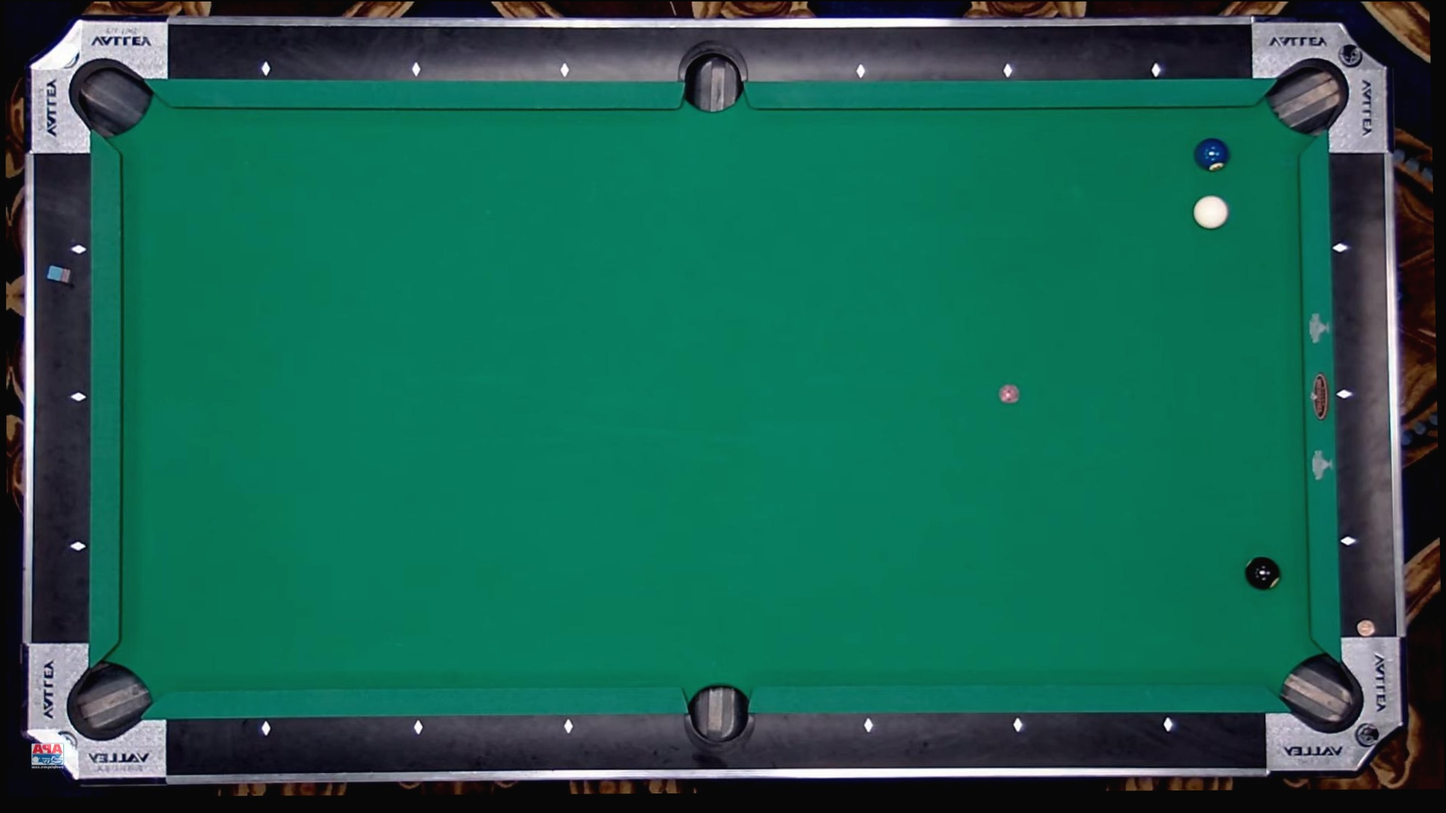Black: (1244, 555, 1281, 590)
Cue: (1194, 195, 1229, 230)
Solid: (855, 66, 866, 77), (261, 63, 272, 74), (73, 245, 84, 256), (72, 541, 83, 552), (414, 721, 425, 732), (564, 720, 575, 731), (1344, 536, 1354, 547), (1334, 244, 1345, 254), (559, 65, 570, 75), (412, 64, 422, 75), (73, 392, 84, 402), (262, 724, 272, 735), (863, 721, 874, 731), (1013, 720, 1023, 731), (1163, 720, 1174, 730), (1339, 388, 1349, 398), (1150, 65, 1160, 75), (1003, 66, 1013, 76)
Striped: (1193, 138, 1230, 172)
